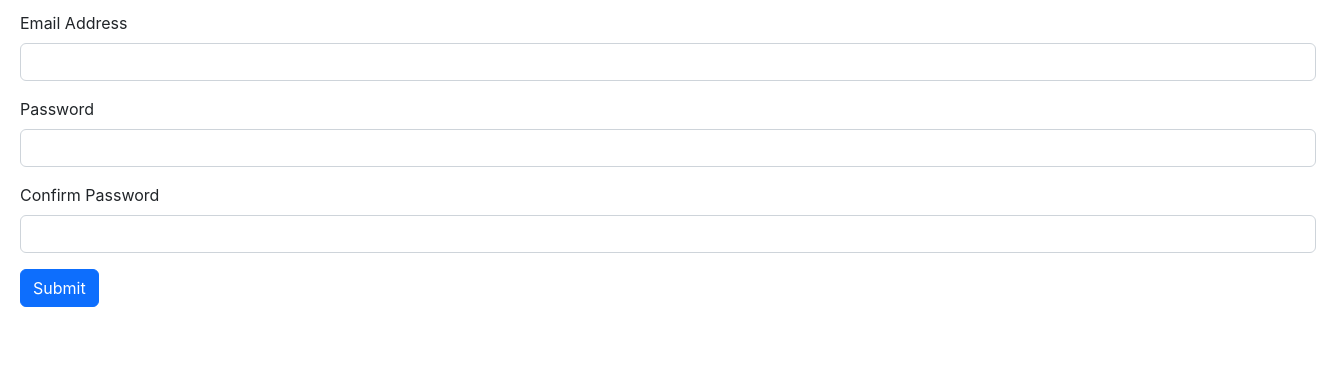
Test: Signup.tsx › Should show password error message on invalid password
Type "alvin@gmail.com" into the field.
click(668, 62); type("alvin@gmail.com")  # box top-left (20, 43), bottom-right (1316, 81)
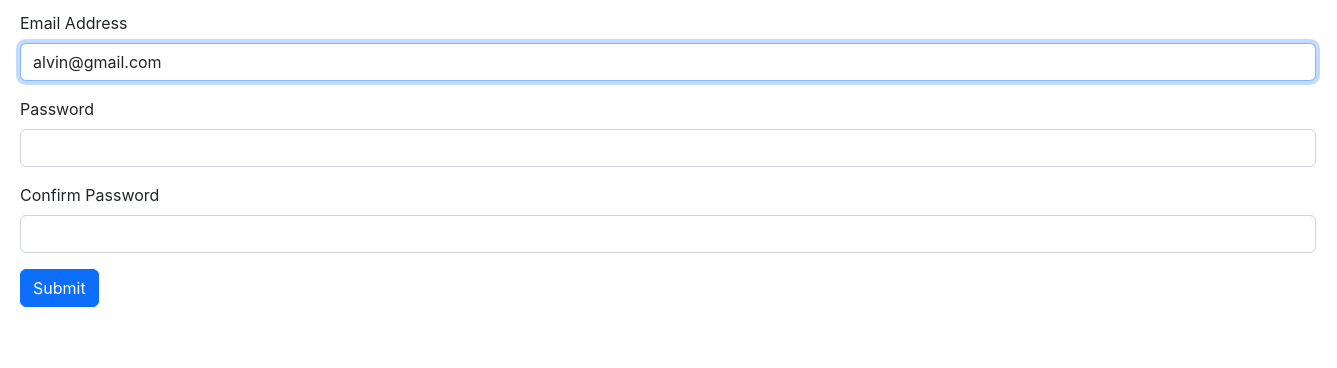
Type "abc" into the password field labelled "Password".
click(668, 148); type("abc")  # box top-left (20, 129), bottom-right (1316, 167)
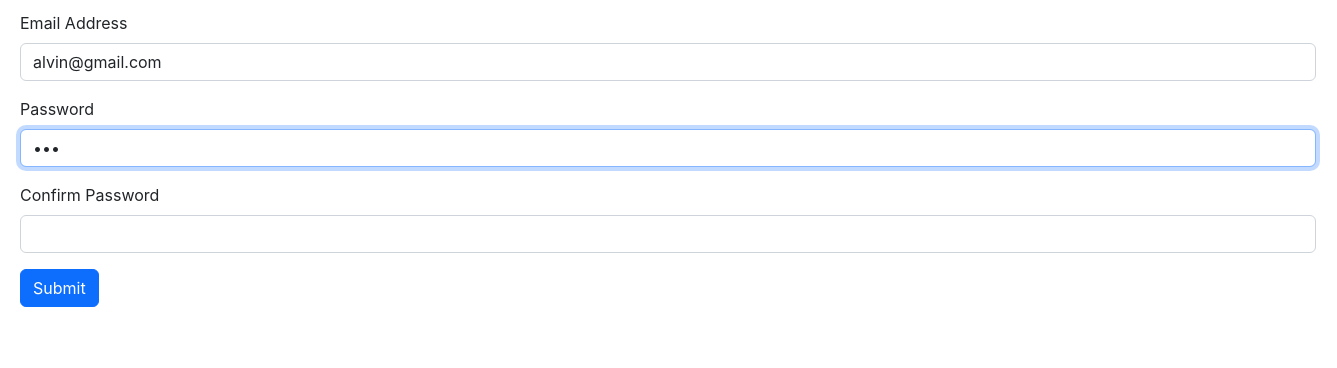
Click the button "Submit".
click(59, 288)  # box top-left (20, 269), bottom-right (99, 307)
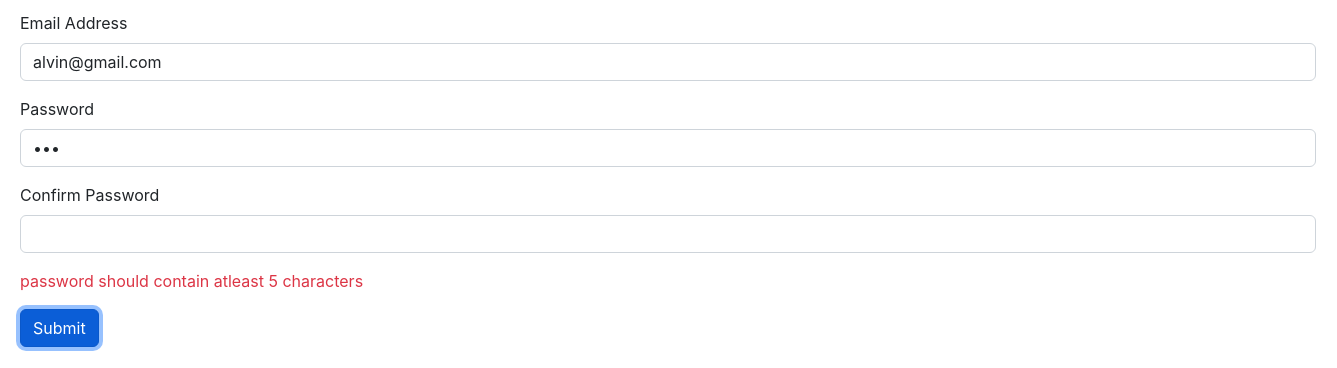
Now the text "password should contain atleast 5 characters" is shown, box top-left (20, 271), bottom-right (363, 291)
